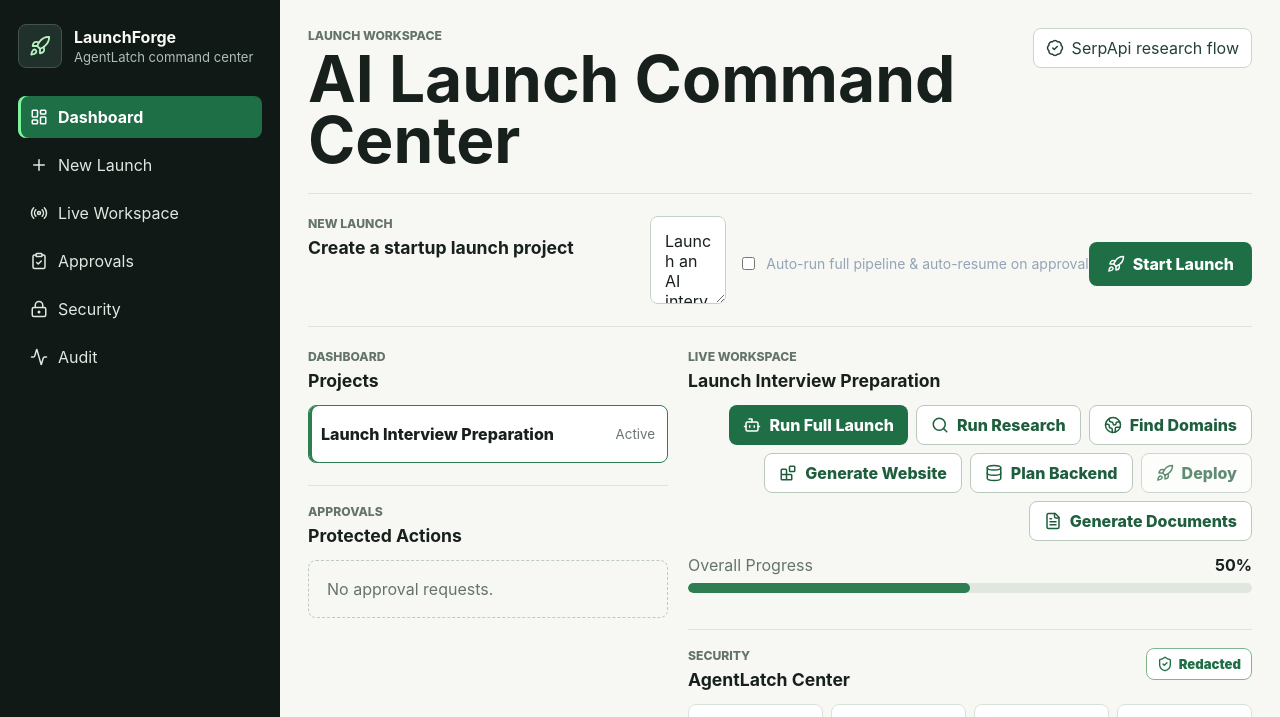
Test: LaunchForge web foundation › runs domain research and renders the recommended domain
Click the button "Find Domains".
click(1170, 425)  # box [1089,405,1252,445]
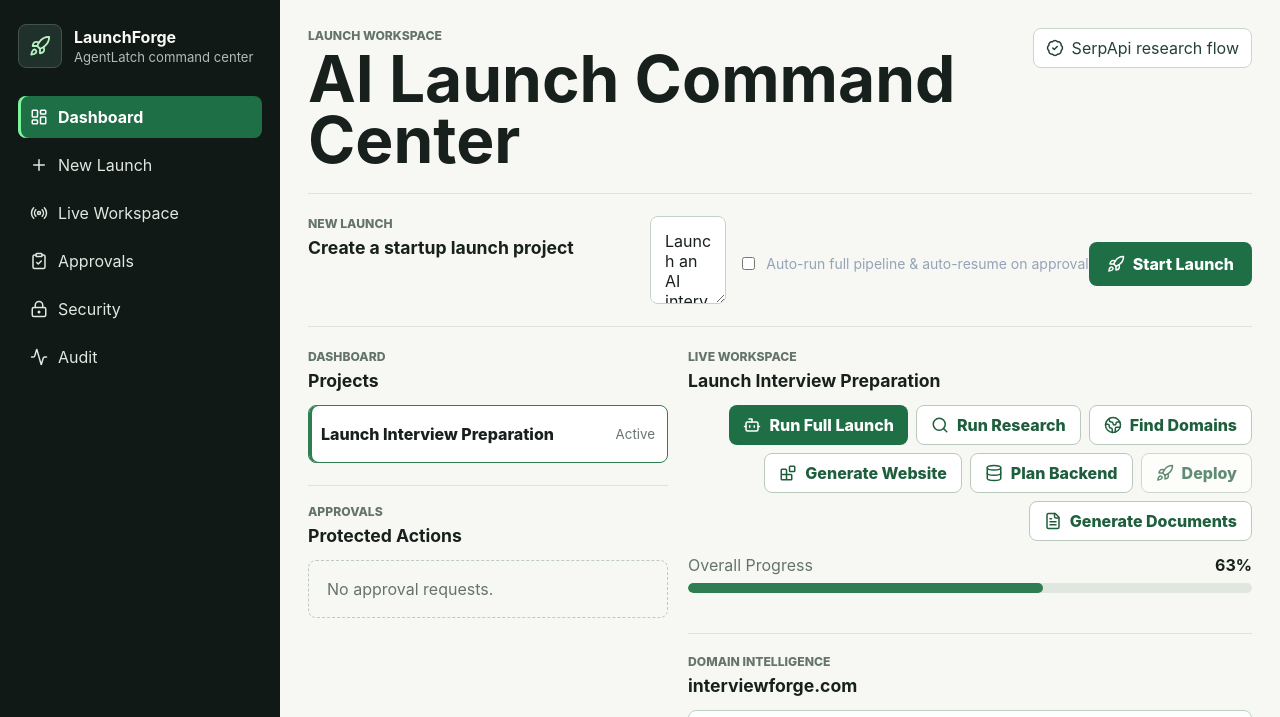
Expected: the heading "interviewforge.com" is shown, [688,675,857,696]
